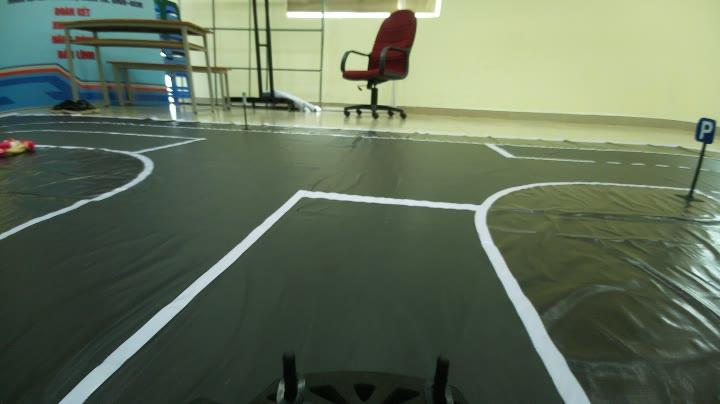parking: (694, 110, 716, 146)
